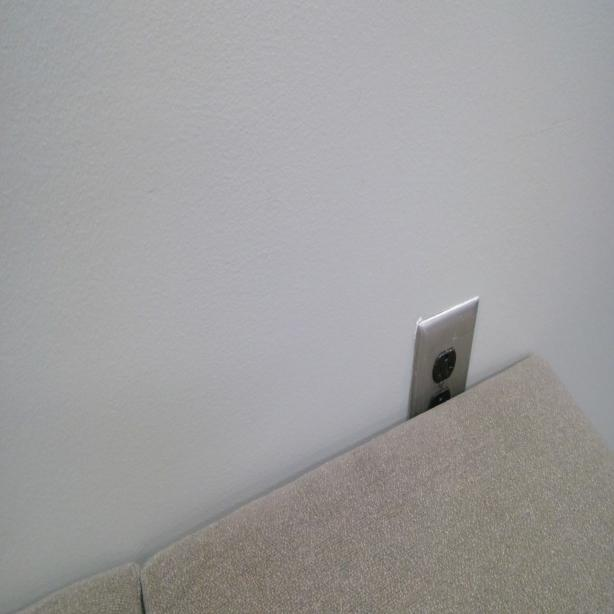typeb: (434, 349, 457, 383)
